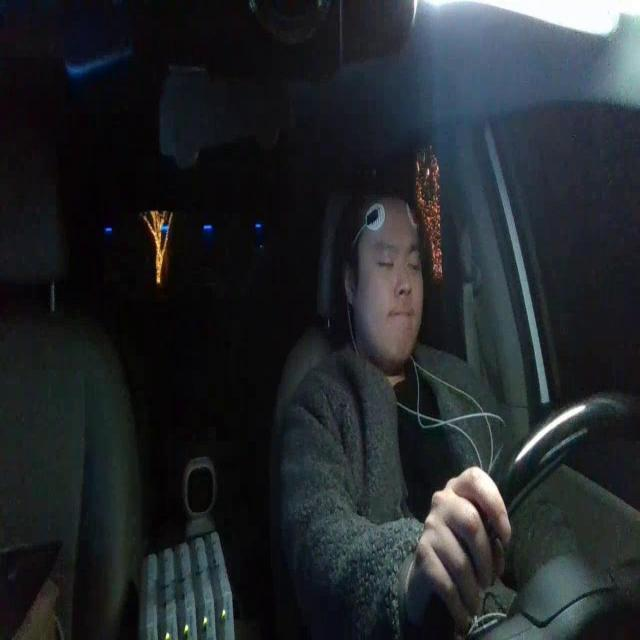Inattentive: (339, 181, 427, 362)
